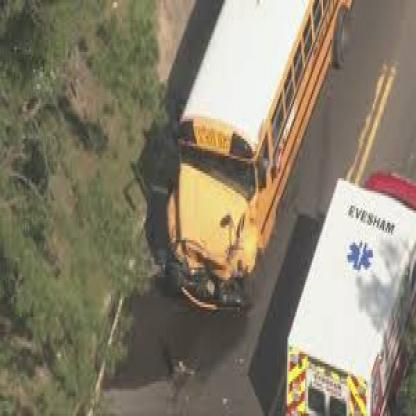accident: (133, 1, 325, 310)
